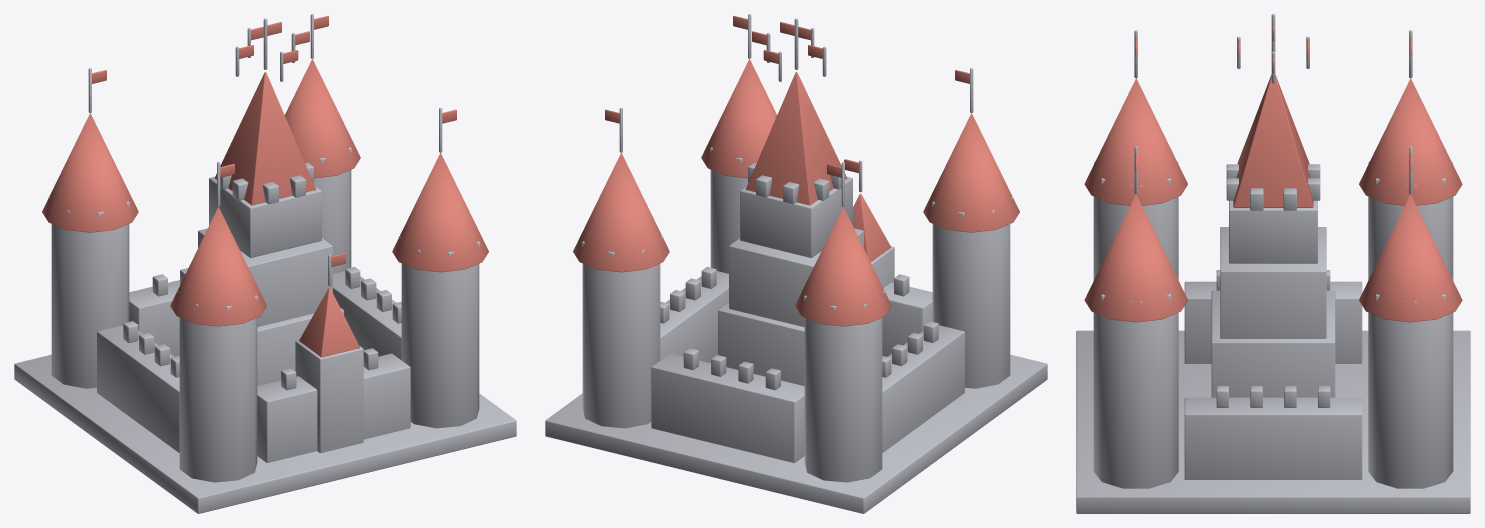
Rendered from castle_t4.glb.
The picture shows the model from 3 angles, left to right: view 1: azimuth 30°, elevation 25°; view 2: azimuth 150°, elevation 25°; view 3: azimuth 270°, elevation 25°; orthographic projection. The views are drawn at different scales.
Parts seen in each view (by area): view 1: stone, roof; view 2: stone, roof; view 3: stone, roof.
Part boxes in pixels (x1,y1,x2,y2): stone: [14, 14, 516, 513]; roof: [42, 16, 488, 357]; stone: [545, 14, 1047, 513]; roof: [573, 16, 1019, 326]; stone: [1076, 14, 1470, 513]; roof: [1084, 22, 1462, 322].
Bounding box in the file's own units: 4.08 × 4.76 × 4.08.
